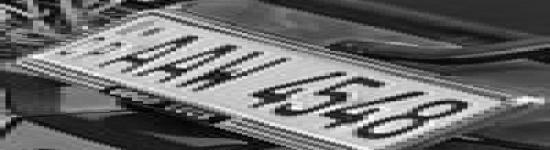4: (288, 86, 454, 135), (215, 64, 362, 113)
5: (261, 72, 407, 121)
8: (326, 93, 497, 147)
A: (156, 47, 311, 97), (112, 39, 264, 88), (75, 30, 218, 79)
C: (37, 33, 124, 59)
P: (56, 37, 143, 65)
